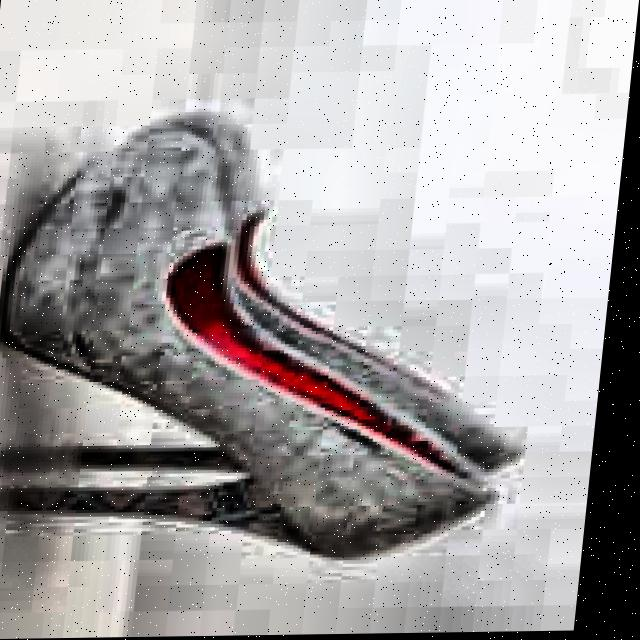shoes: (0, 85, 565, 562)
